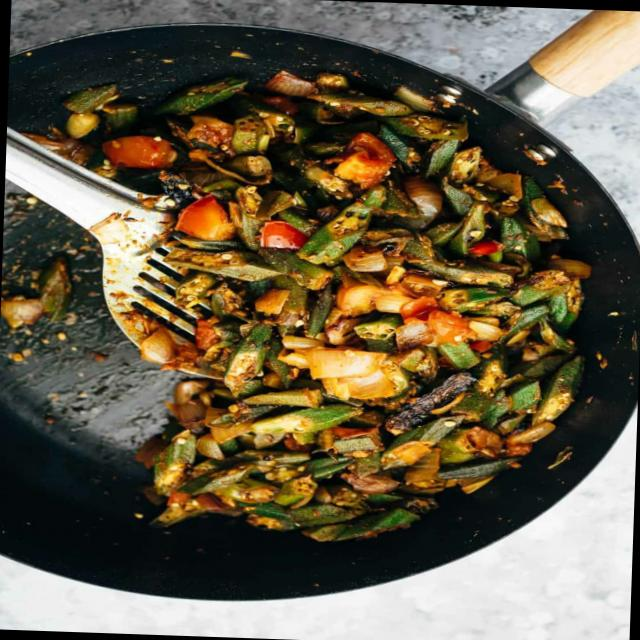BhindiMasala: (0, 61, 596, 549)
